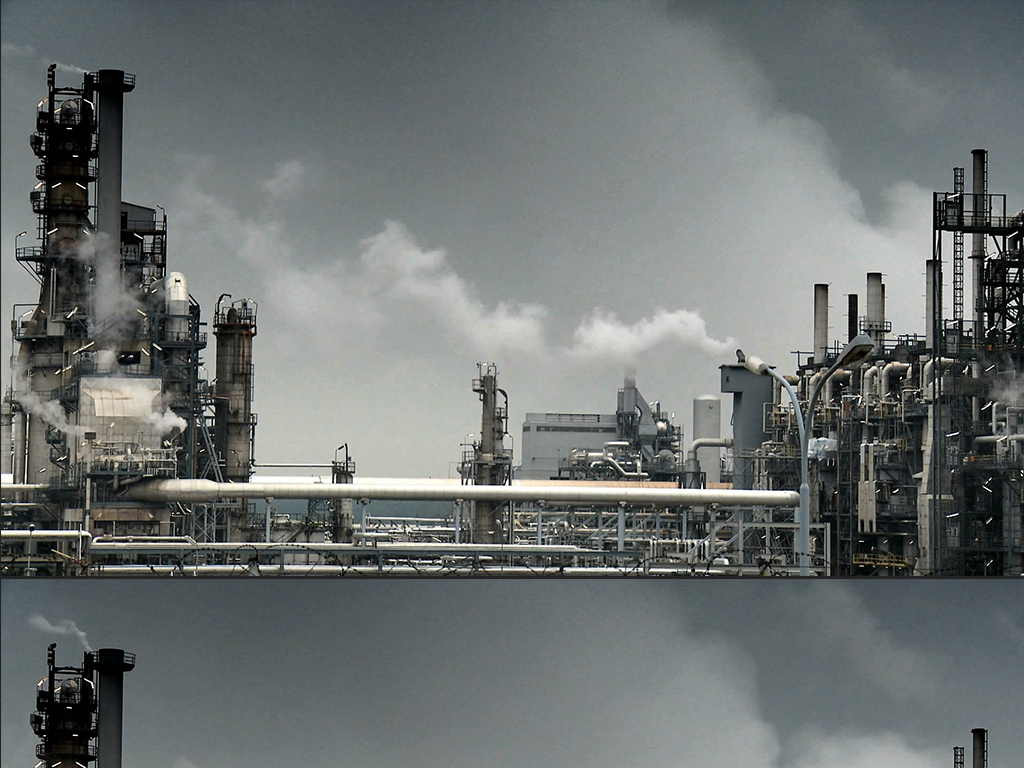dust: (310, 211, 546, 367), (14, 332, 196, 443), (564, 289, 756, 357)
